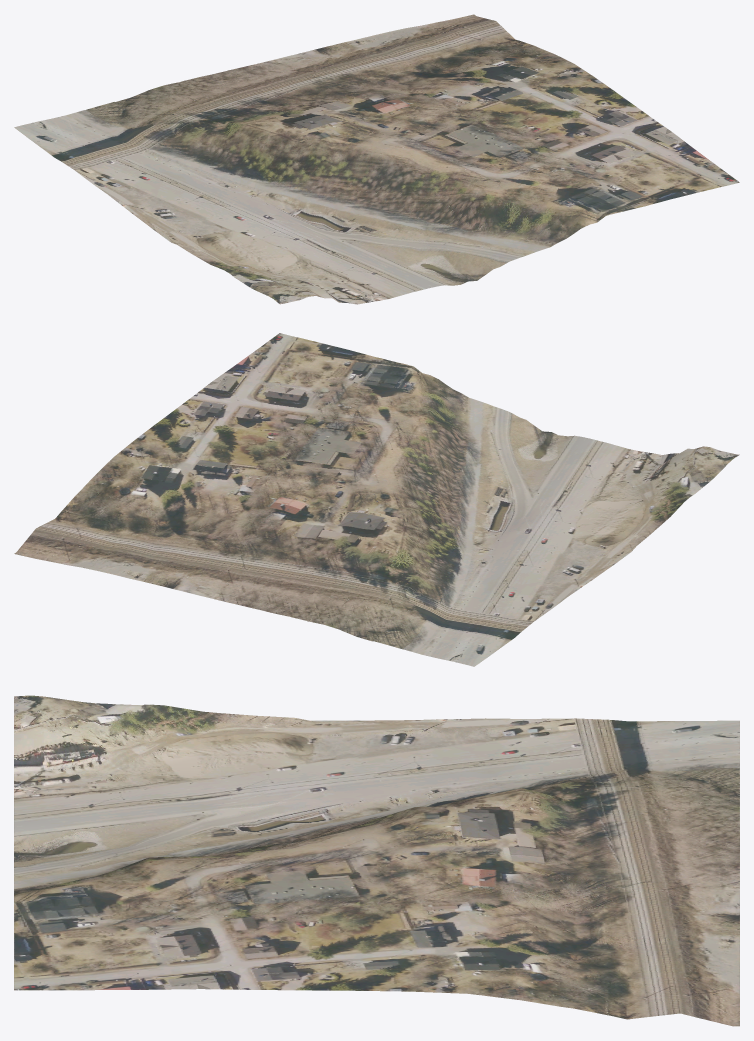
Rendered from CM_Terrain_24490663_6819794.fbx.
3 renders of one model, top to bottom at view 1: azimuth 30°, elevation 25°; view 2: azimuth 150°, elevation 25°; view 3: azimuth 270°, elevation 25°, orthographic. The views are drawn at different scales.
Visible parts, largest first — view 1: CM_Terrain_24490663_6819794_LOD0; view 2: CM_Terrain_24490663_6819794_LOD0; view 3: CM_Terrain_24490663_6819794_LOD0.
Part boxes in pixels (bbox=[...]): CM_Terrain_24490663_6819794_LOD0: bbox=[14, 14, 739, 304]; CM_Terrain_24490663_6819794_LOD0: bbox=[14, 333, 739, 666]; CM_Terrain_24490663_6819794_LOD0: bbox=[14, 695, 739, 1026].
Size of what is drawn, in the model's own units: 205 by 15.97 by 205.
